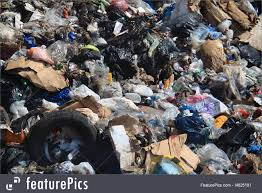garbage: (1, 1, 262, 173)
